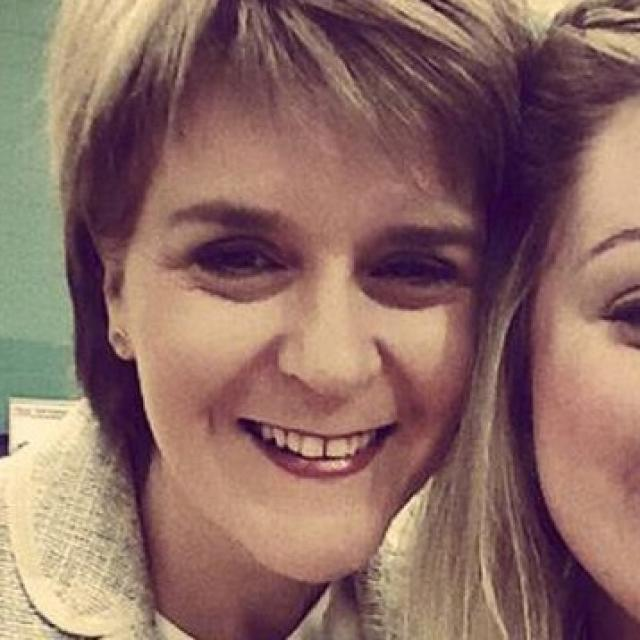Normal: (124, 34, 525, 583)
